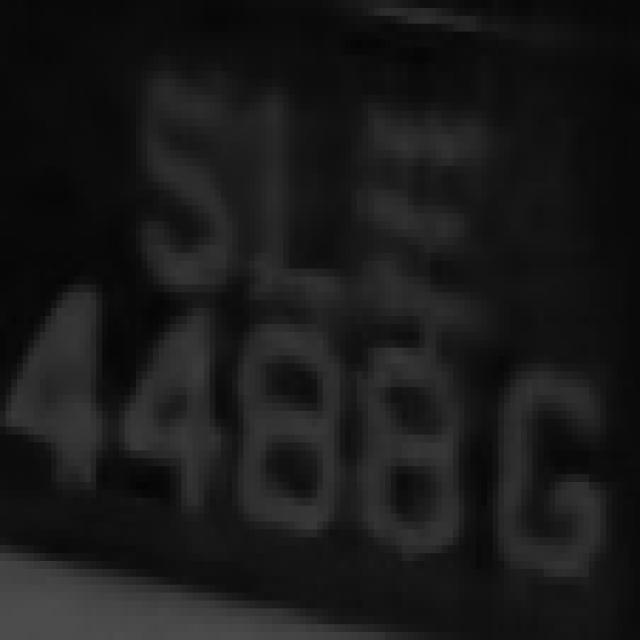4: (136, 308, 243, 569), (23, 253, 119, 521)
8: (232, 277, 368, 553), (346, 340, 482, 577)
E: (363, 87, 521, 332)
G: (504, 340, 617, 616)
L: (221, 63, 351, 340)
S: (119, 55, 249, 308)
